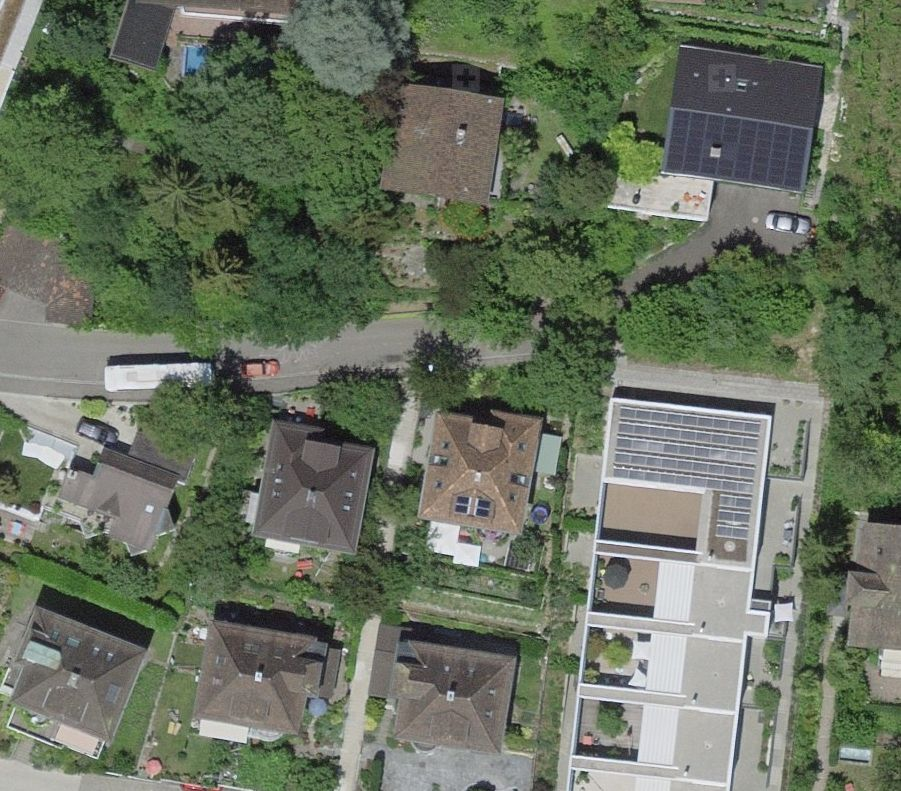solar: (611, 405, 762, 542), (663, 108, 811, 194)
